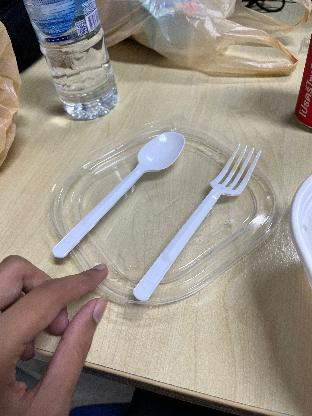Others: (131, 138, 269, 306), (55, 129, 193, 261)
Plastic Bottle: (28, 0, 119, 124)
